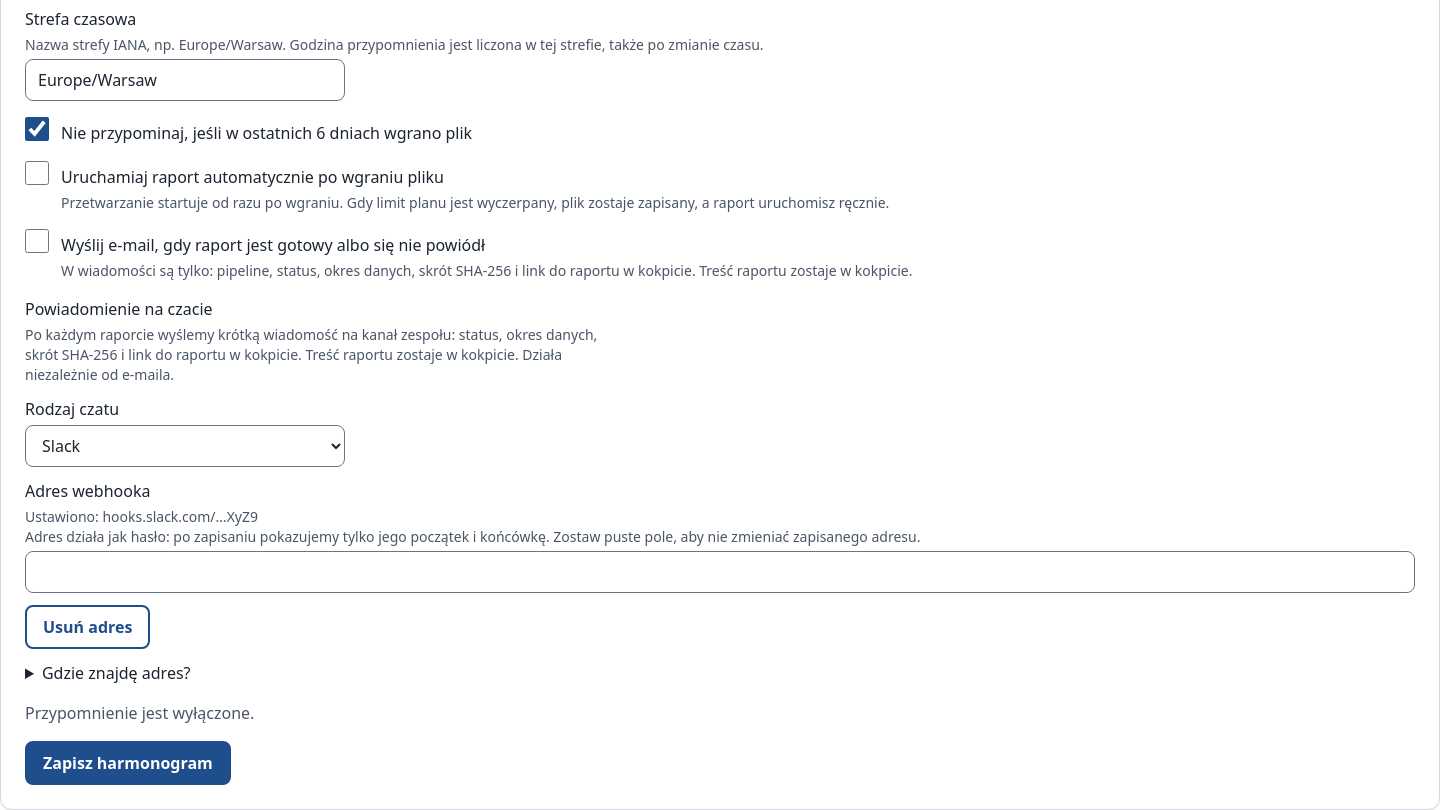
Test: ScheduleSettingsCard › „Usuń adres” wysyła null, a „Cofnij usunięcie” zostawia adres
(page scrolled)
Click the button "Usuń adres" at coordinates (88, 627), box [25,605,150,649]
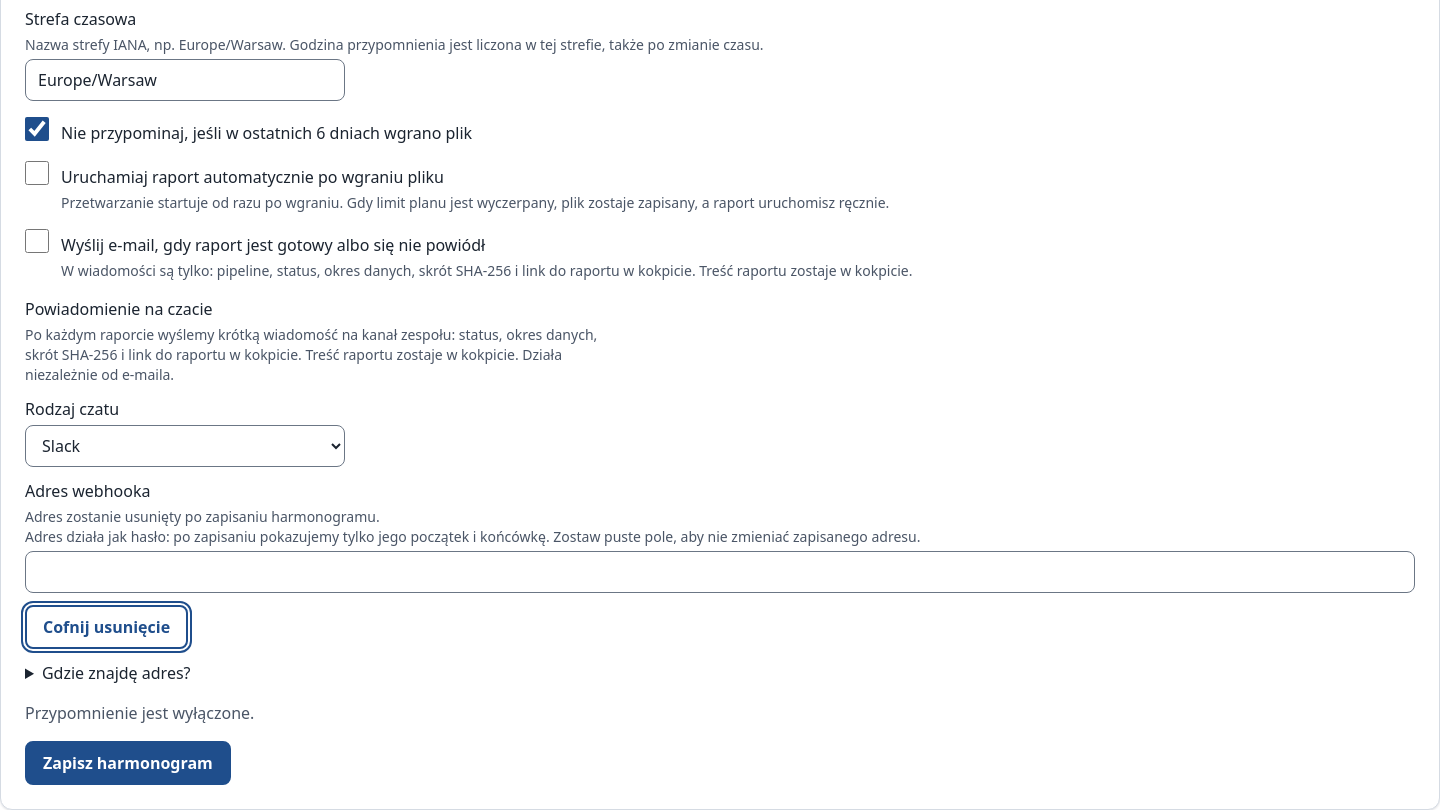
Expected: the text with test id "schedule-webhook-current" reads "Adres zostanie usunięty po zapisaniu harmonogramu.", [25,507,380,526]
Click the button "Cofnij usunięcie" at coordinates (107, 627), box [25,605,188,649]
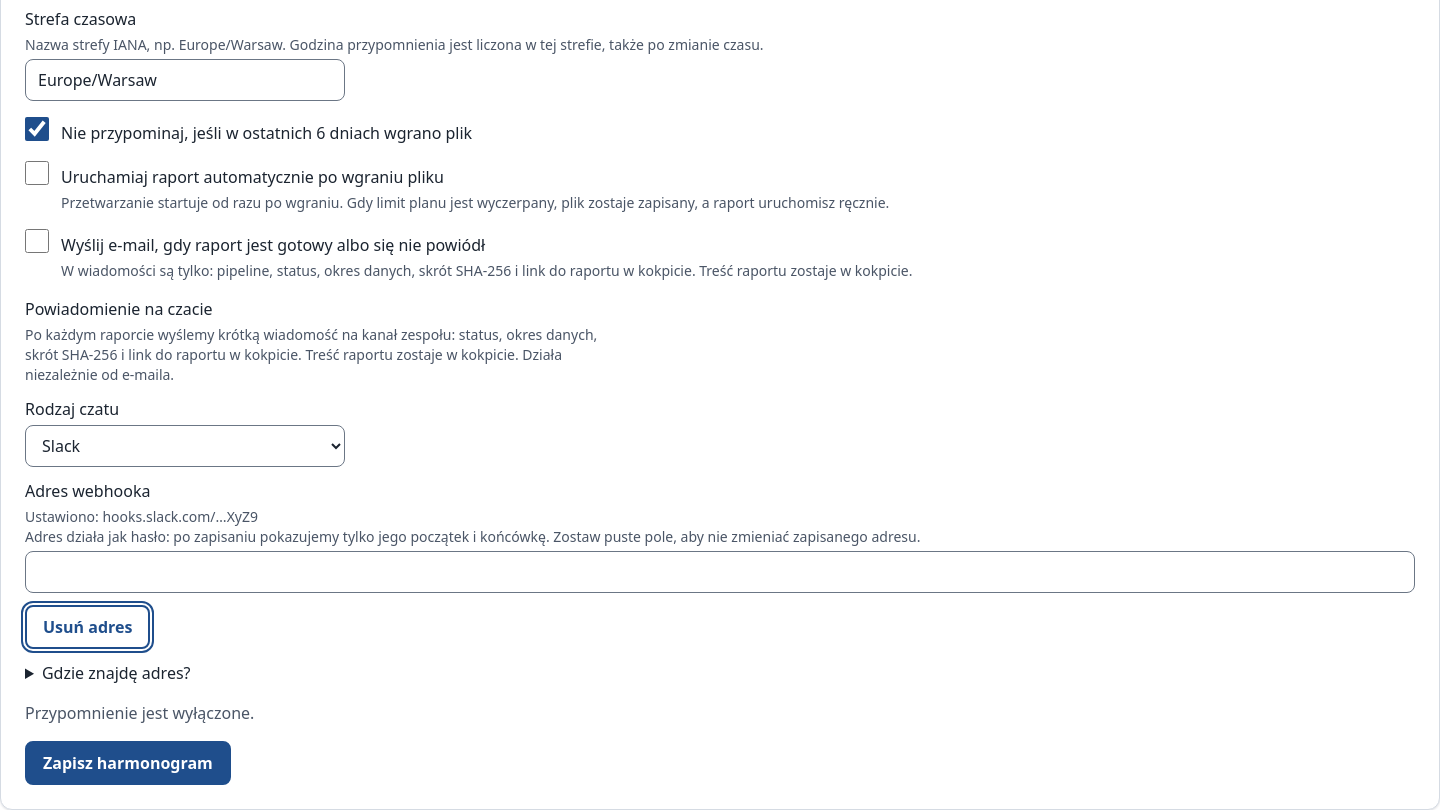
Expected: the text with test id "schedule-webhook-current" shows "Ustawiono:", [25,507,258,526]
Click the button "Usuń adres" at coordinates (88, 627), box [25,605,150,649]
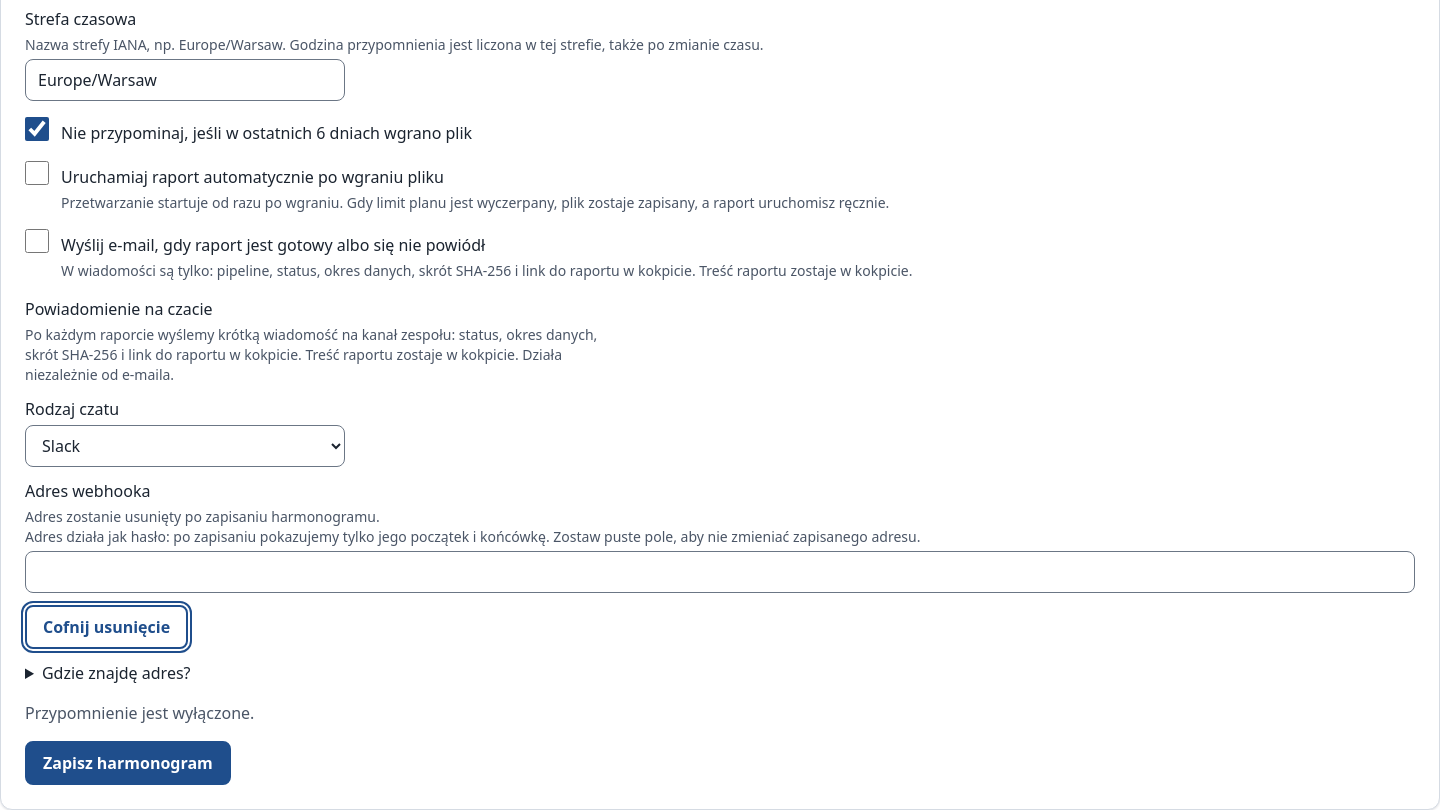
Click the button "Zapisz harmonogram" at coordinates (128, 763), box [25,741,231,785]
(page scrolled)
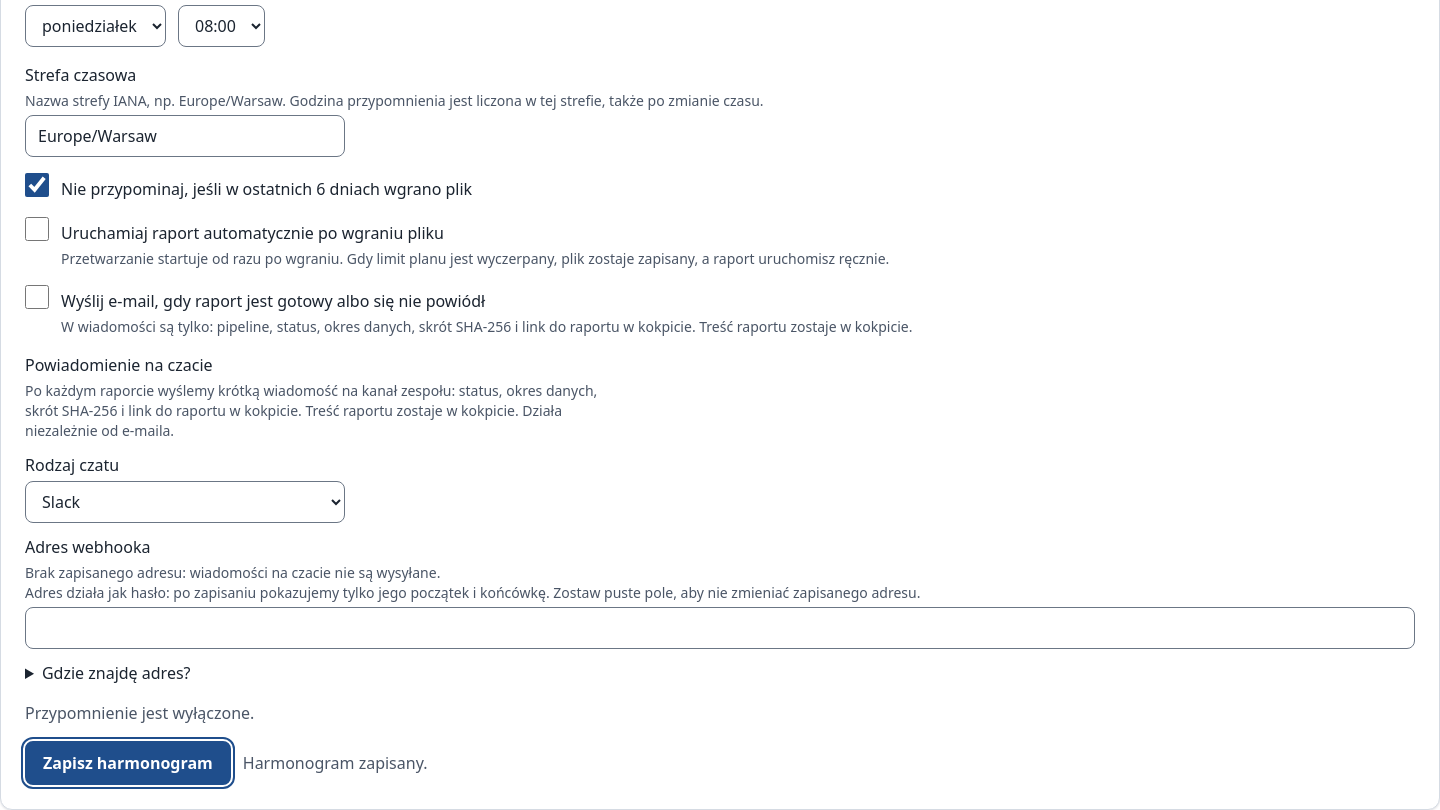
Expected: the button "Usuń adres" is not shown
Expected: the text "Harmonogram zapisany." is shown, [243,751,428,775]
Expected: the text with test id "schedule-webhook-current" shows "Brak zapisanego adresu", [25,563,440,582]
